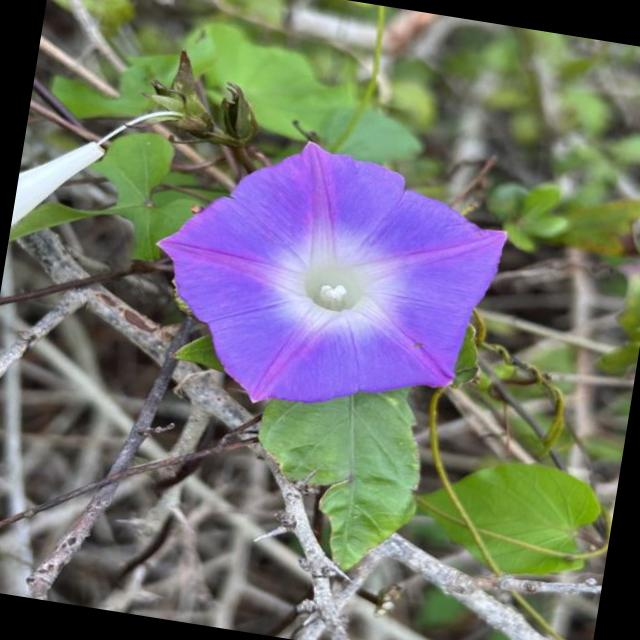ipomoea: (130, 118, 520, 440)
